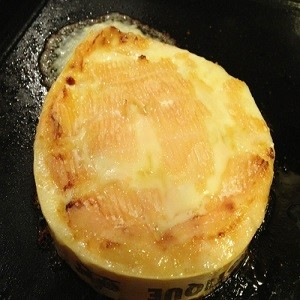cheese_brain food: (79, 103, 238, 232)
